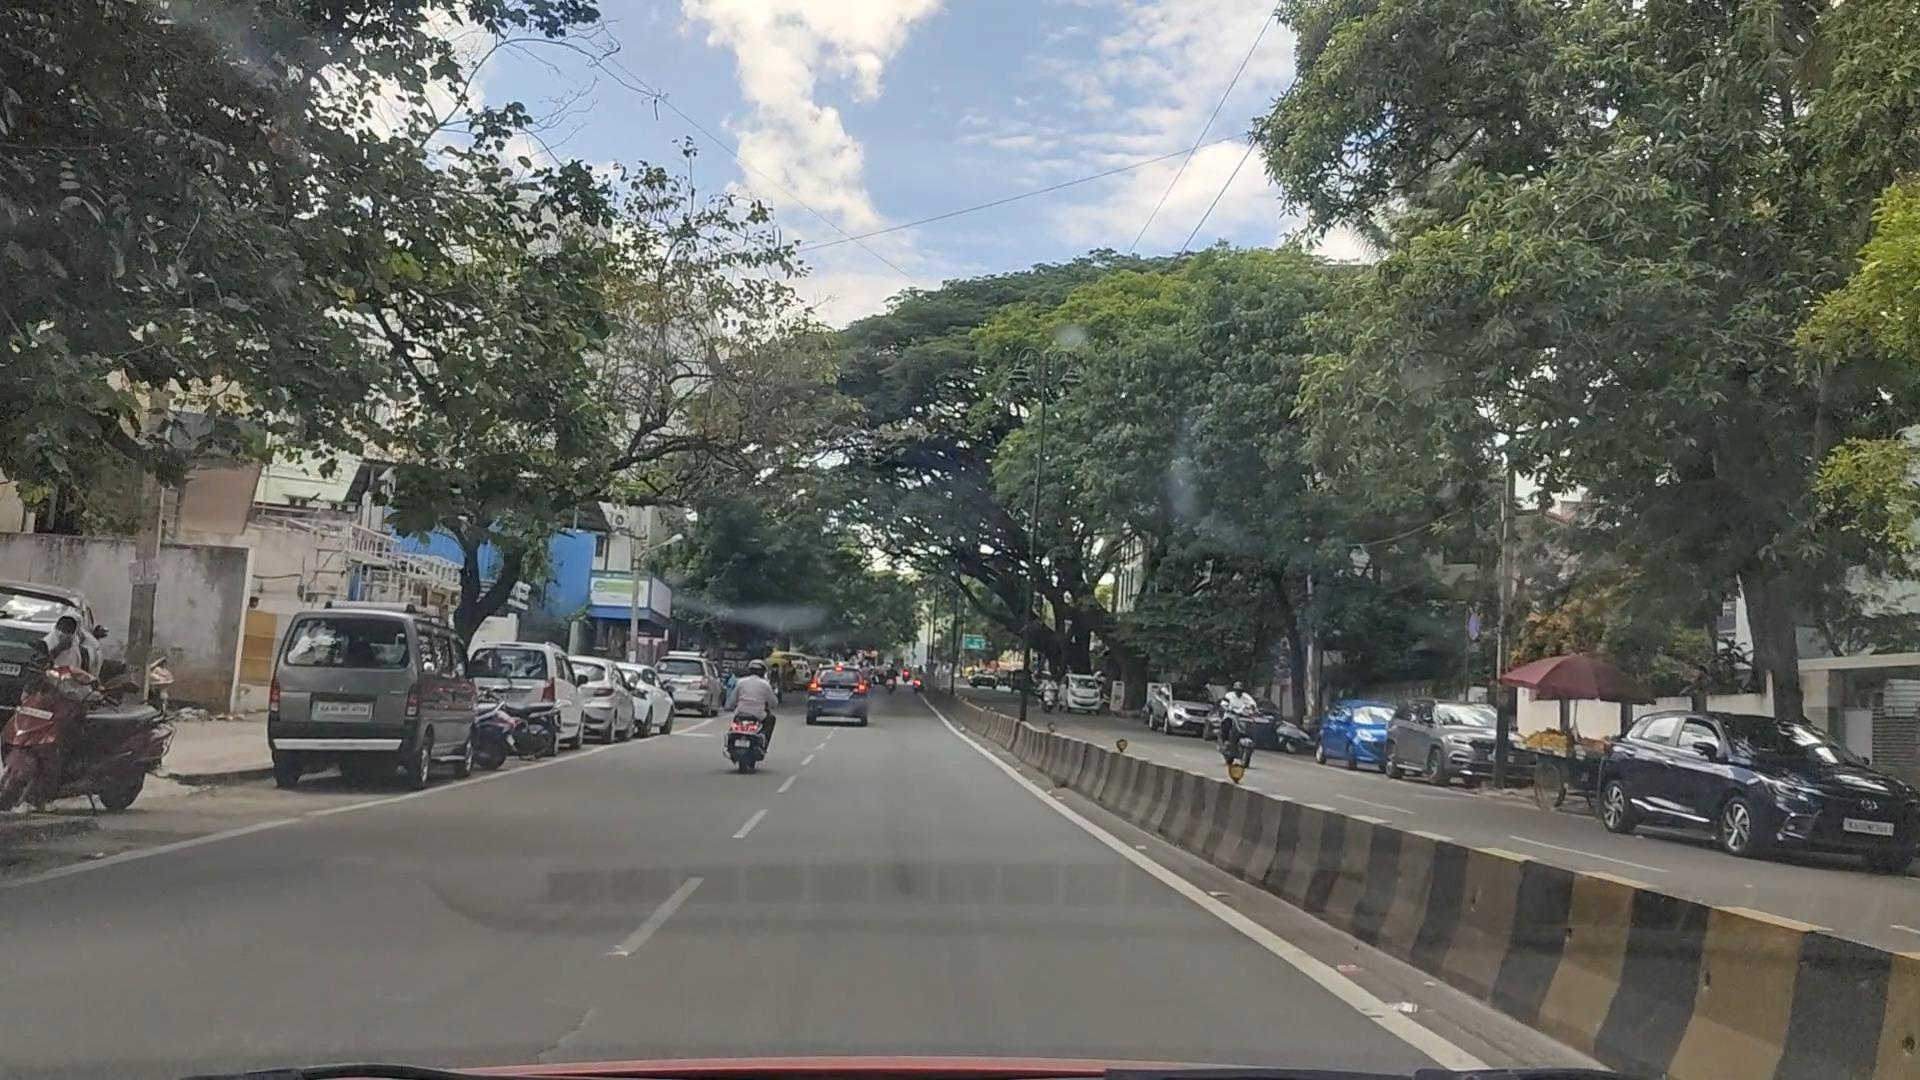LMV: (278, 613, 481, 781), (725, 633, 799, 789)
